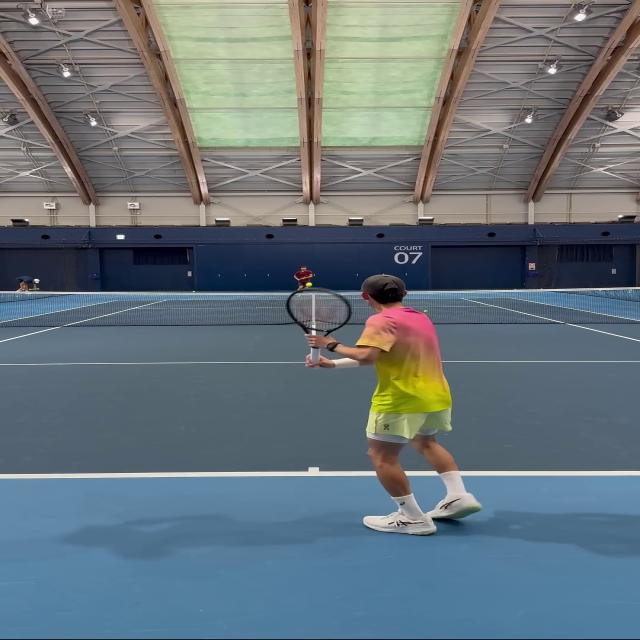tennis_ball: (307, 283, 312, 286)
